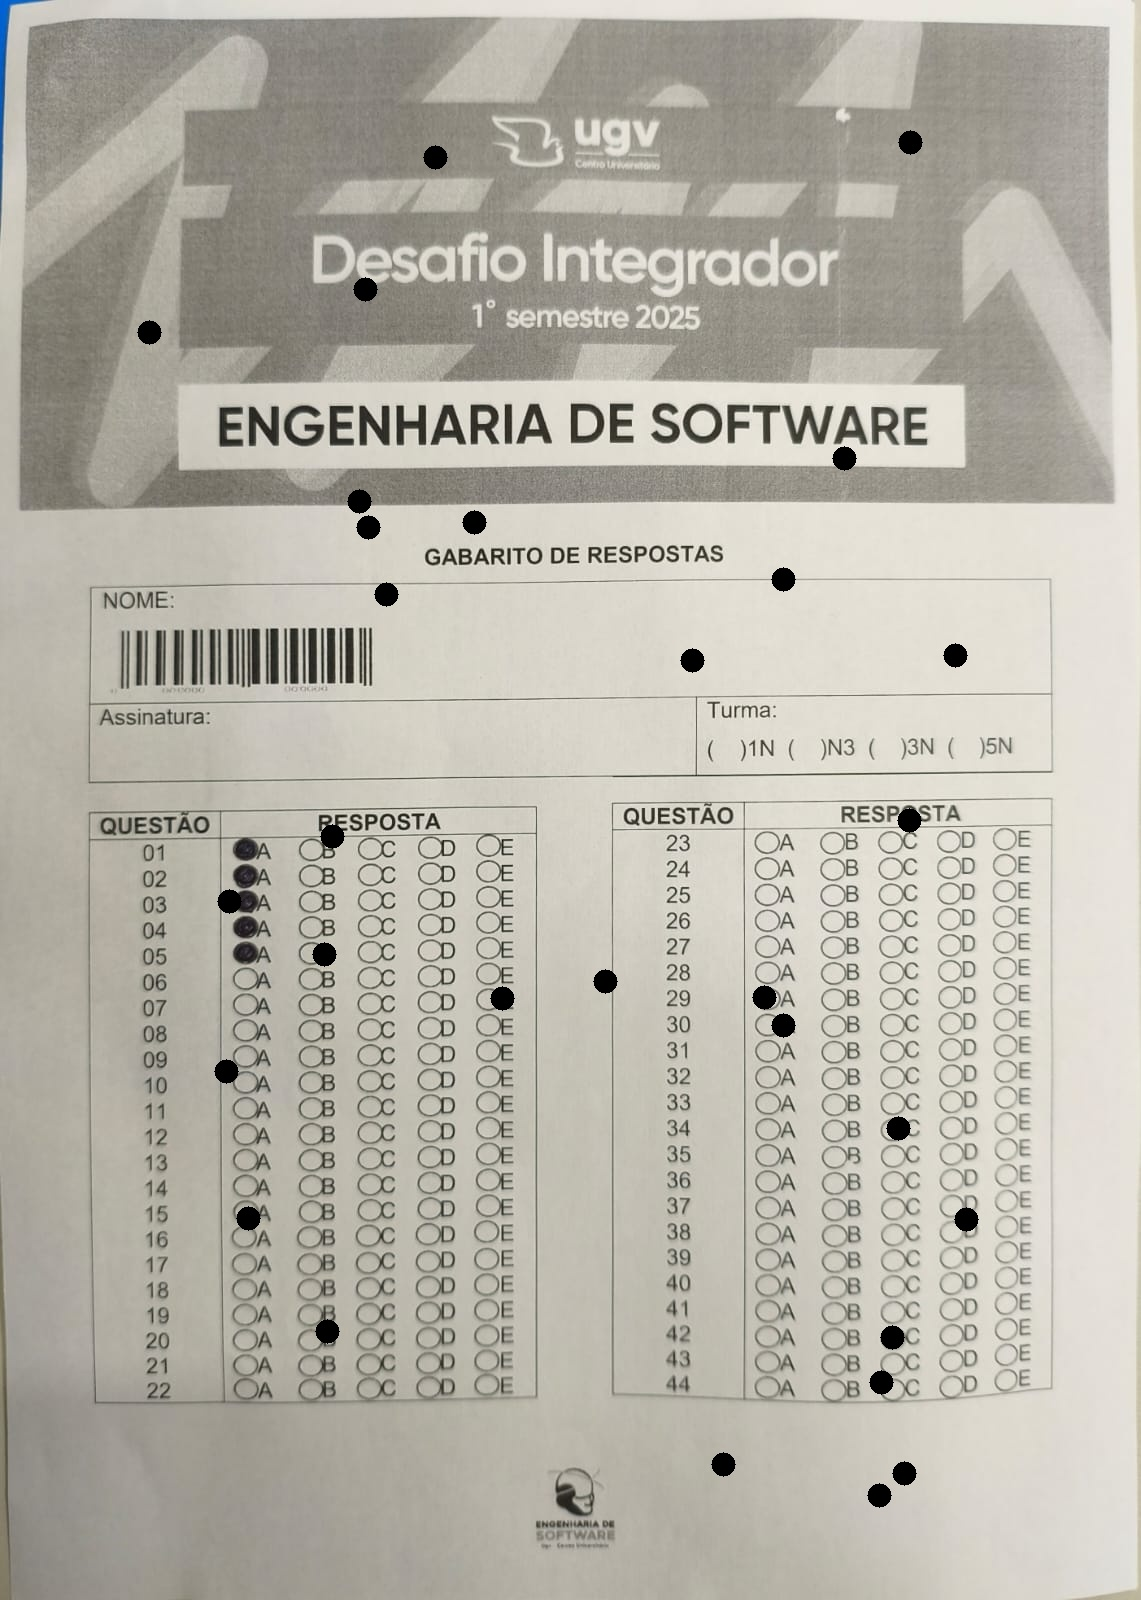bolinha: (892, 1456, 916, 1490), (356, 510, 380, 544), (898, 125, 922, 159), (867, 1478, 892, 1512), (771, 562, 795, 596), (315, 1314, 340, 1348), (320, 820, 345, 853), (236, 1201, 261, 1235), (462, 505, 487, 538), (885, 1111, 910, 1144), (896, 804, 921, 837), (771, 1009, 795, 1042), (593, 964, 617, 998), (214, 1054, 238, 1088), (832, 441, 856, 475), (137, 315, 161, 349), (880, 1320, 904, 1354), (353, 272, 377, 306), (217, 884, 241, 917), (424, 141, 447, 174), (374, 578, 398, 611), (869, 1365, 893, 1399), (752, 980, 775, 1014), (955, 1202, 978, 1236), (943, 638, 967, 672), (312, 937, 336, 970), (490, 981, 514, 1015), (711, 1447, 735, 1480), (680, 643, 704, 677), (347, 484, 370, 517)
